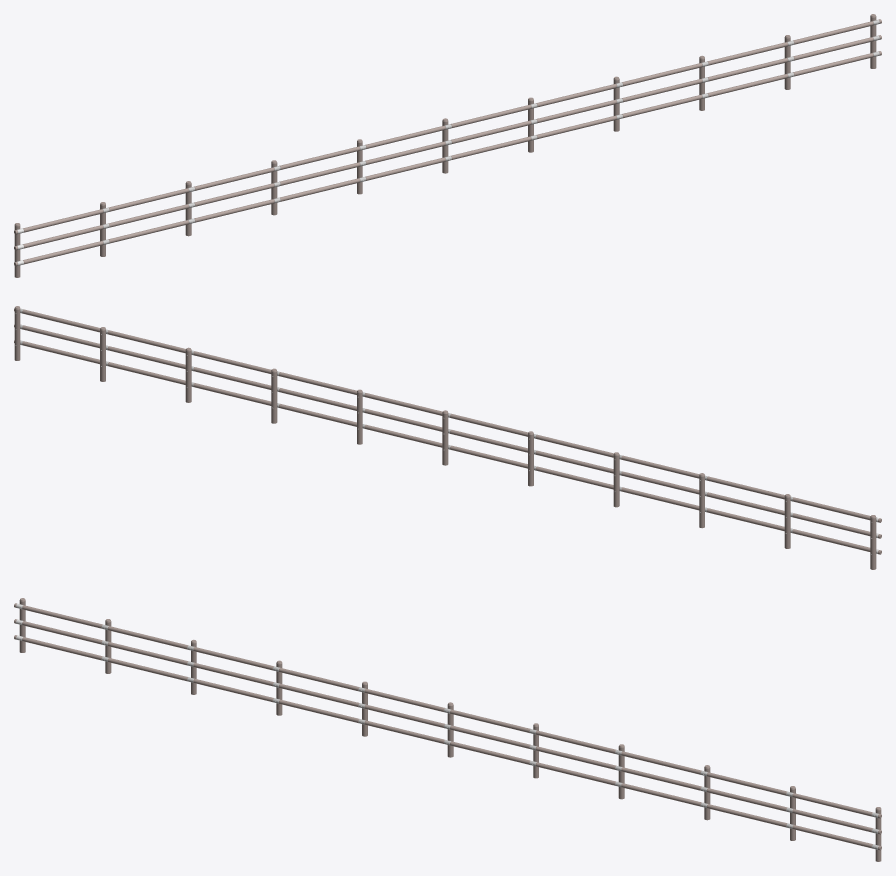
File: 1044_guard_fence_10.glb
3 renders of one model, top to bottom at view 1: azimuth 30°, elevation 25°; view 2: azimuth 150°, elevation 25°; view 3: azimuth 330°, elevation 25°, orthographic.
Visible parts, largest first — view 1: Body; view 2: Body; view 3: Body.
Boxes of the visible parts, left/top/right/bottom form: Body: left=14, top=14, right=881, bottom=277; Body: left=14, top=306, right=881, bottom=569; Body: left=14, top=598, right=881, bottom=861.
Size of the model in its own units: 20.24 by 1.18 by 0.2256.
